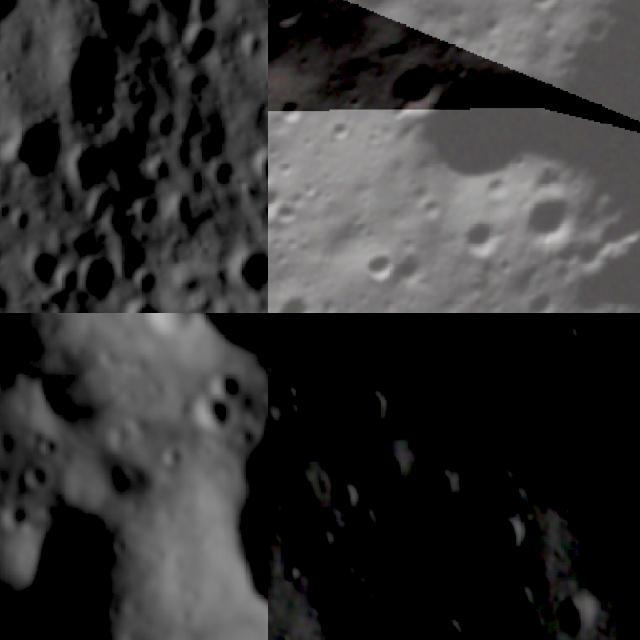crater: (390, 46, 587, 242), (566, 313, 640, 489), (136, 313, 268, 406), (8, 351, 112, 454), (370, 44, 461, 134), (50, 38, 130, 137), (268, 125, 310, 313), (508, 180, 596, 268), (334, 434, 416, 520), (0, 125, 73, 192), (452, 203, 516, 270), (188, 106, 238, 179), (346, 237, 405, 295), (55, 148, 114, 202), (222, 242, 268, 308), (338, 386, 394, 440), (82, 0, 134, 56), (340, 0, 420, 35), (184, 392, 235, 446), (178, 24, 228, 74), (554, 460, 600, 514), (268, 85, 316, 136), (76, 254, 121, 308), (552, 590, 600, 640), (420, 469, 464, 523), (484, 513, 530, 562), (18, 246, 62, 296), (141, 0, 204, 34), (204, 363, 248, 411), (268, 282, 335, 313), (12, 458, 58, 502), (318, 107, 362, 152), (147, 437, 192, 481), (268, 0, 317, 38), (515, 279, 569, 313), (513, 0, 574, 30), (125, 261, 167, 304), (268, 193, 310, 236), (412, 190, 453, 232), (419, 611, 475, 640), (420, 530, 460, 568), (134, 190, 167, 236), (346, 509, 381, 552), (163, 188, 194, 234), (268, 172, 295, 223), (0, 0, 26, 41), (249, 144, 268, 199), (532, 295, 589, 313), (268, 0, 307, 21), (116, 299, 172, 313)
